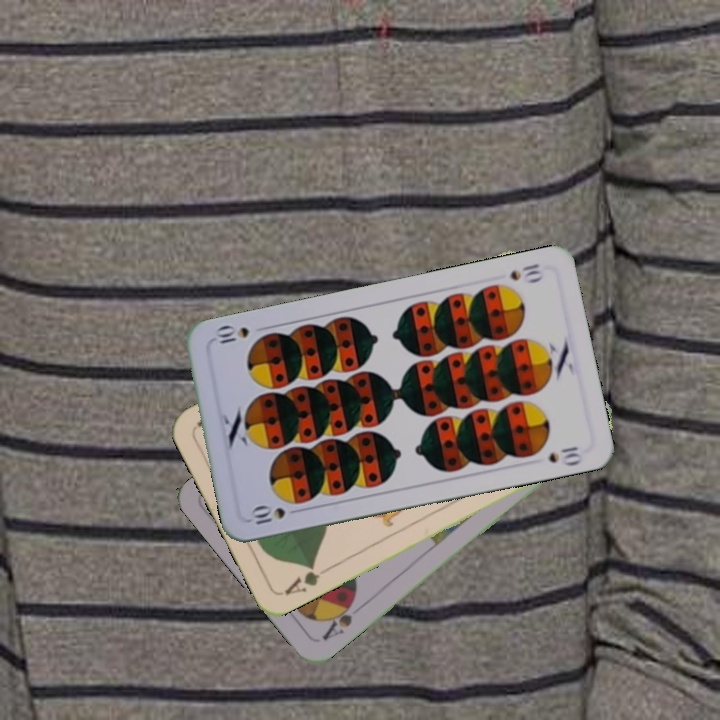GA: (280, 560, 333, 598)
S10: (505, 259, 546, 285), (246, 503, 288, 527)
SA: (318, 594, 358, 644)
